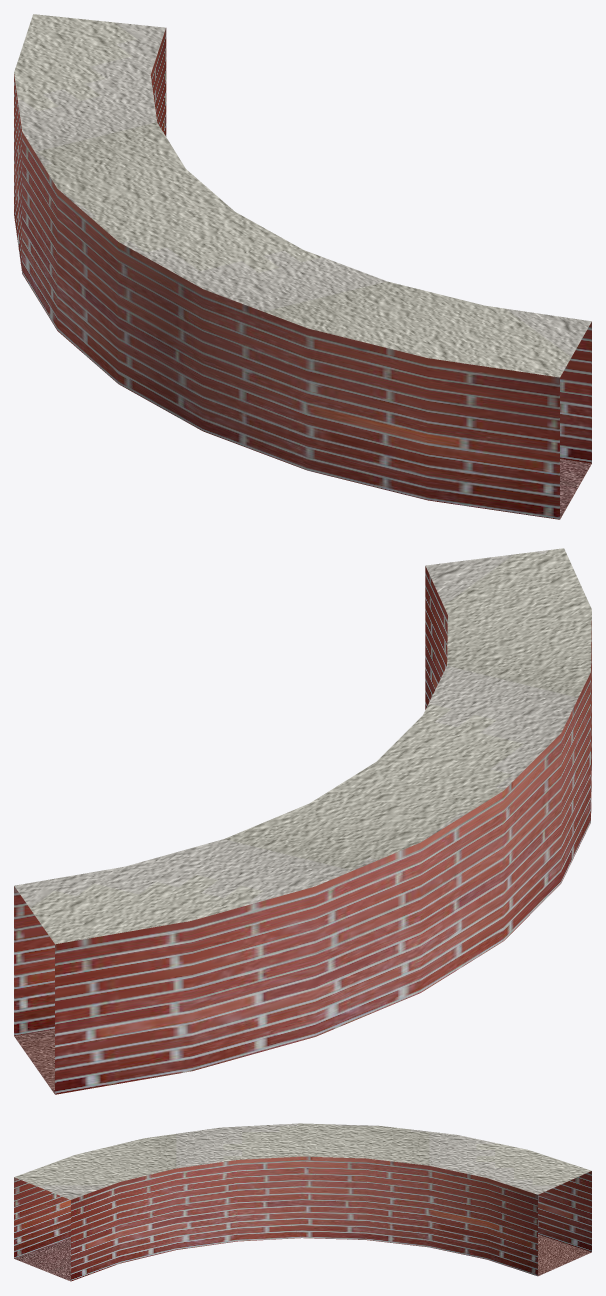
The model's file is Curved Hallway Textured.FBX.
3 renders of one model, top to bottom at view 1: azimuth 30°, elevation 25°; view 2: azimuth 150°, elevation 25°; view 3: azimuth 270°, elevation 25°, orthographic. The views are drawn at different scales.
Parts seen in each view (by area): view 1: WAll, Ceiling, Box001; view 2: WAll, Ceiling, Box001; view 3: WAll, Ceiling, Box001.
Part boxes in pixels (<box>): WAll: <box>14,28,591,519</box>; Ceiling: <box>14,14,591,377</box>; Box001: <box>560,459,591,519</box>; WAll: <box>14,566,591,1094</box>; Ceiling: <box>14,548,591,944</box>; Box001: <box>14,1029,54,1093</box>; WAll: <box>14,1156,591,1281</box>; Ceiling: <box>14,1123,591,1199</box>; Box001: <box>14,1234,591,1281</box>.
Size of the model in its own units: 64.54 by 206 by 32.05.
3 materials, 3 textured.
